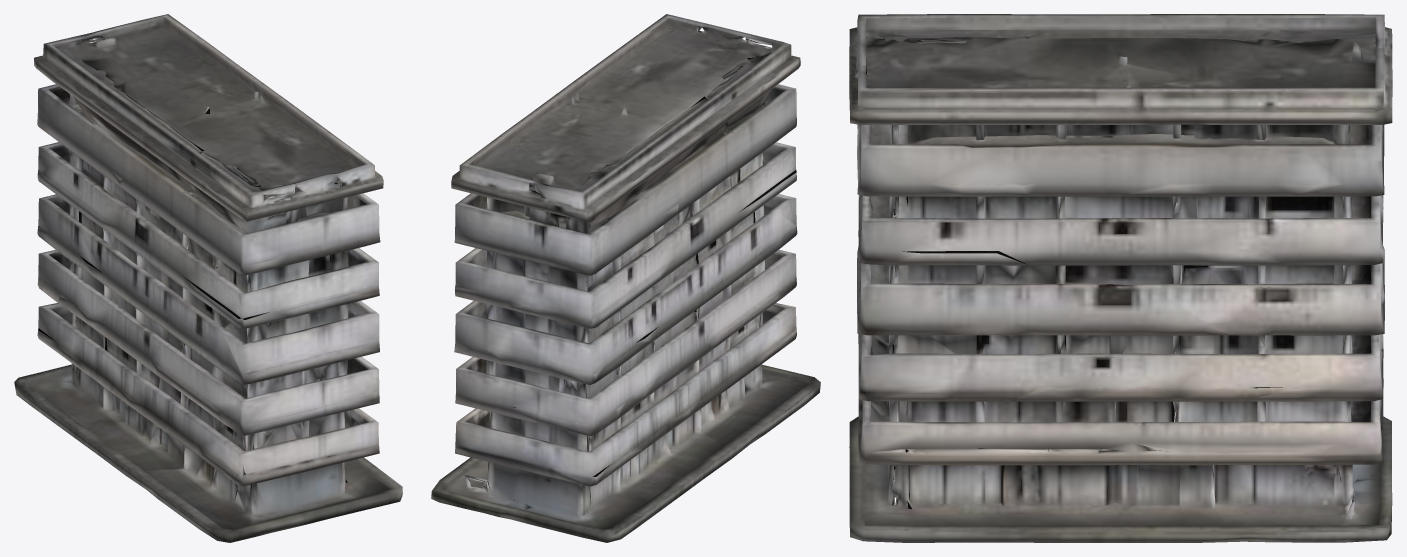
The model's file is bldg_danchi.glb.
3 renders of one model, left to right at view 1: azimuth 30°, elevation 25°; view 2: azimuth 150°, elevation 25°; view 3: azimuth 270°, elevation 25°, orthographic. The views are drawn at different scales.
Parts seen in each view (by area): view 1: bldg_danchi; view 2: bldg_danchi; view 3: bldg_danchi.
Boxes of the visible parts, box(x1,y1,x2,y2) form: bldg_danchi: box(14, 14, 402, 542); bldg_danchi: box(431, 14, 820, 542); bldg_danchi: box(849, 14, 1392, 542).
Bounding box in the file's own units: 11.59 × 20 × 22.69.
1 material, 1 textured.
